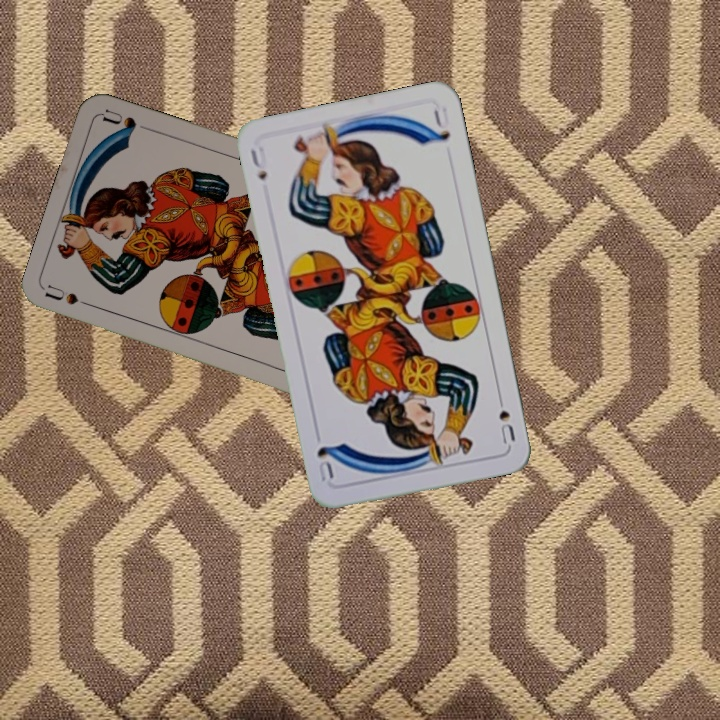SU: (43, 281, 102, 312), (493, 389, 518, 446), (246, 142, 270, 183)
